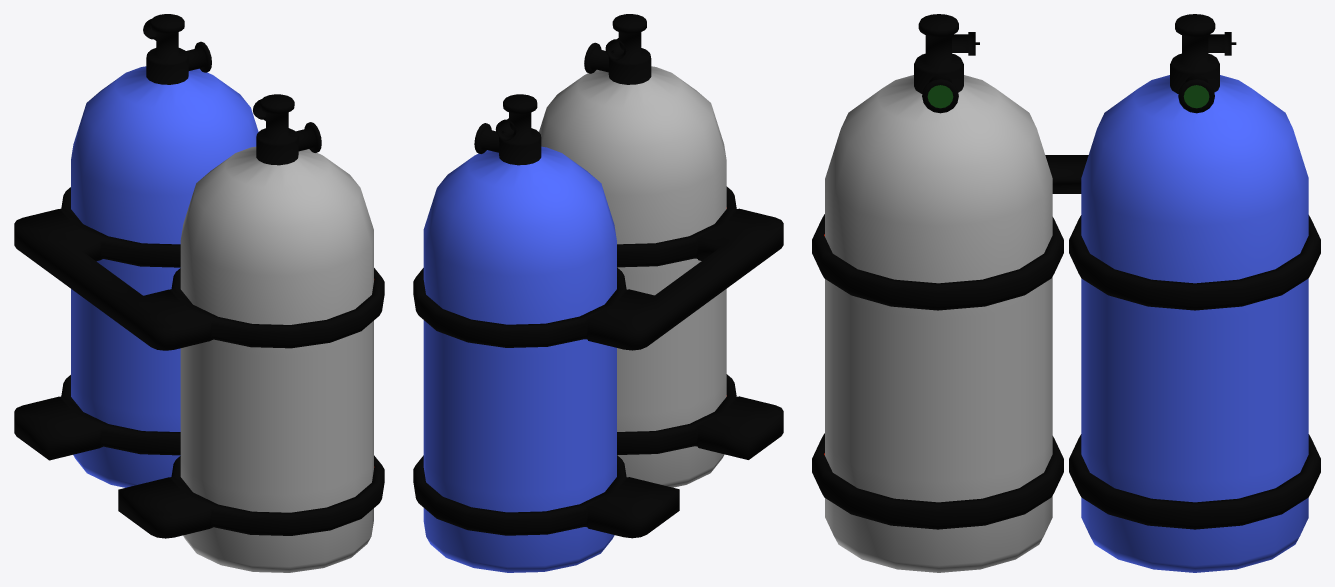
File: TurboSmooth.fbx
3 views of the same model, side by side, from view 1: azimuth 30°, elevation 25°; view 2: azimuth 150°, elevation 25°; view 3: azimuth 270°, elevation 25° (orthographic). The views are drawn at different scales.
Parts seen in each view (by area): view 1: Cylinder; view 2: Cylinder; view 3: Cylinder.
Part boxes in pixels (left/top/right/bottom): Cylinder: left=14, top=14, right=384, bottom=572; Cylinder: left=413, top=14, right=783, bottom=572; Cylinder: left=812, top=14, right=1320, bottom=572.
Bounding box in the file's own units: 58.01 × 103 × 94.29.
